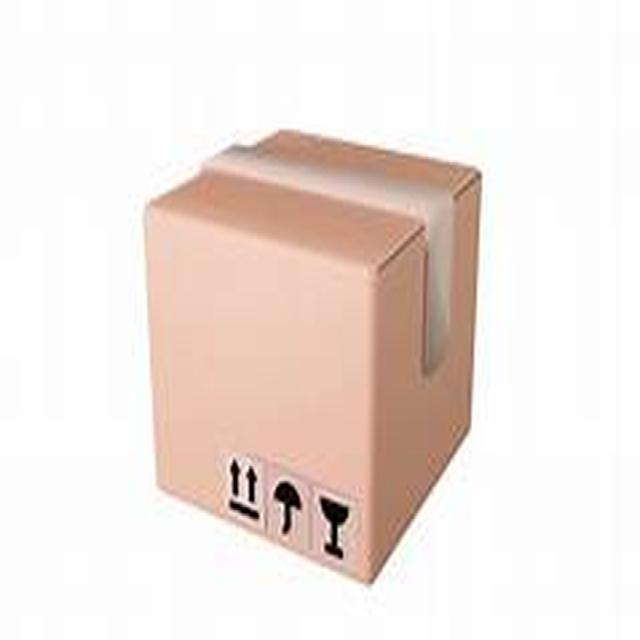box: (116, 83, 499, 604)
